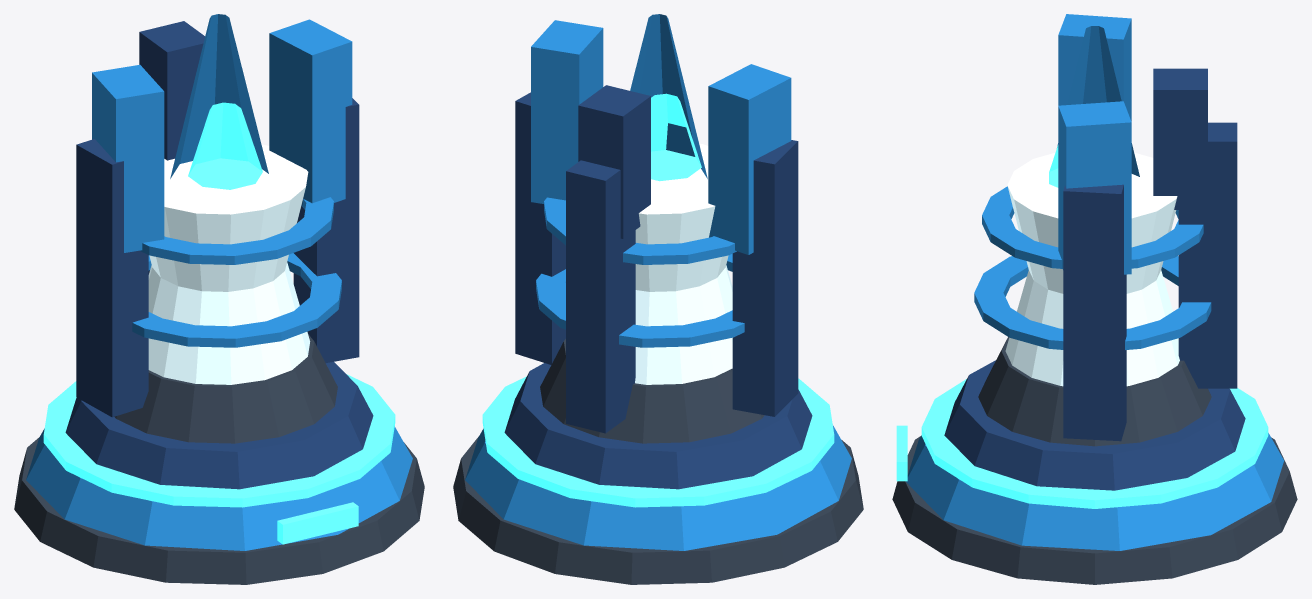
Rendered from king_blue.glb.
The picture shows the model from 3 angles, left to right: view 1: azimuth 30°, elevation 25°; view 2: azimuth 150°, elevation 25°; view 3: azimuth 270°, elevation 25°; orthographic projection. The views are drawn at different scales.
Parts seen in each view (by area): view 1: king_blue_Crown_Cage, king_blue_Base_Lower, king_blue_Base_Armor, king_blue_Base_Deck, king_blue_Core_Upper, king_blue_Crown_Right, king_blue_Core_Cradle, king_blue_Core_Lower, king_blue_Base_Light_Ring, king_blue_Crown_Left, king_blue_Halo_Lower, king_blue_Crown_Center (+4 smaller); view 2: king_blue_Crown_Cage, king_blue_Base_Armor, king_blue_Base_Lower, king_blue_Base_Deck, king_blue_Crown_Left, king_blue_Base_Light_Ring, king_blue_Crown_Right, king_blue_Core_Cradle, king_blue_Core_Lower, king_blue_Rear_Crown, king_blue_Core_Upper, king_blue_Crown_Center (+3 smaller); view 3: king_blue_Crown_Cage, king_blue_Base_Armor, king_blue_Base_Deck, king_blue_Base_Lower, king_blue_Core_Cradle, king_blue_Base_Light_Ring, king_blue_Core_Upper, king_blue_Rear_Crown, king_blue_Crown_Right, king_blue_Core_Lower, king_blue_Halo_Lower, king_blue_Halo_Upper (+3 smaller).
Boxes of the visible parts, x1,y1,x2,y2 form: king_blue_Crown_Cage: (76,98,359,417); king_blue_Base_Lower: (14,437,424,584); king_blue_Base_Armor: (26,426,412,550); king_blue_Base_Deck: (65,362,373,489); king_blue_Core_Upper: (149,144,308,291); king_blue_Crown_Right: (269,19,352,205); king_blue_Core_Cradle: (114,334,337,443); king_blue_Core_Lower: (148,262,310,384); king_blue_Base_Light_Ring: (43,374,395,507); king_blue_Crown_Left: (92,65,164,252); king_blue_Halo_Lower: (132,253,341,347); king_blue_Crown_Center: (170,14,268,178); king_blue_Crown_Cage: (515,92,798,433); king_blue_Base_Armor: (465,425,851,550); king_blue_Base_Lower: (453,436,863,584); king_blue_Base_Deck: (504,363,812,489); king_blue_Crown_Left: (708,64,791,254); king_blue_Base_Light_Ring: (482,376,834,507); king_blue_Crown_Right: (531,20,603,203); king_blue_Core_Cradle: (540,339,764,443); king_blue_Core_Lower: (635,265,732,384); king_blue_Rear_Crown: (578,85,650,238); king_blue_Core_Upper: (635,143,728,291); king_blue_Crown_Center: (630,14,707,178); king_blue_Crown_Cage: (1063,122,1237,441); king_blue_Base_Armor: (906,433,1284,550); king_blue_Base_Deck: (944,360,1245,490); king_blue_Base_Lower: (892,436,1297,584); king_blue_Core_Cradle: (978,337,1211,446); king_blue_Base_Light_Ring: (921,379,1268,508); king_blue_Core_Upper: (1007,152,1177,293); king_blue_Rear_Crown: (1153,68,1207,209); king_blue_Crown_Right: (1058,101,1131,274); king_blue_Core_Lower: (1005,270,1179,386); king_blue_Halo_Lower: (974,256,1211,349); king_blue_Halo_Upper: (982,186,1203,268).
Size of the model in its own units: 1.04 by 1.33 by 1.04.
